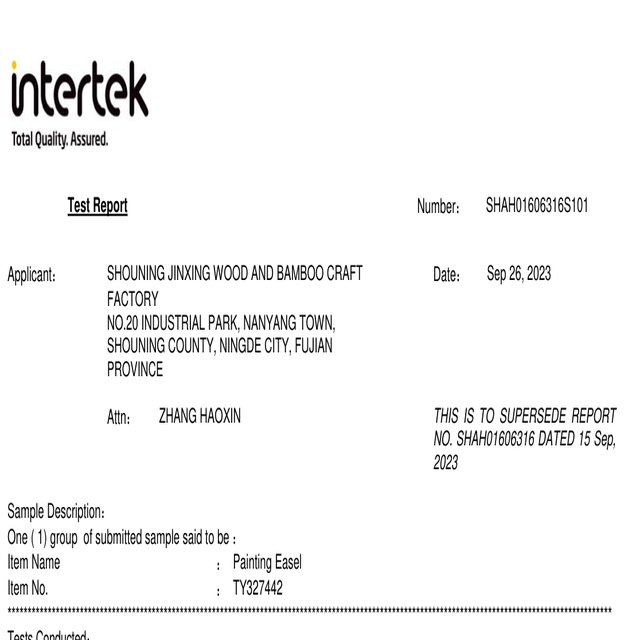intertek: (5, 55, 154, 123)
